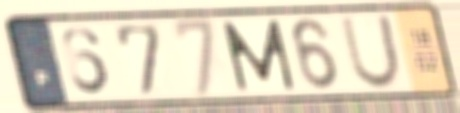6: (289, 16, 341, 92), (60, 25, 113, 97)
7: (168, 14, 222, 101), (112, 21, 164, 98)
M: (218, 17, 299, 95)
U: (337, 12, 405, 92)
